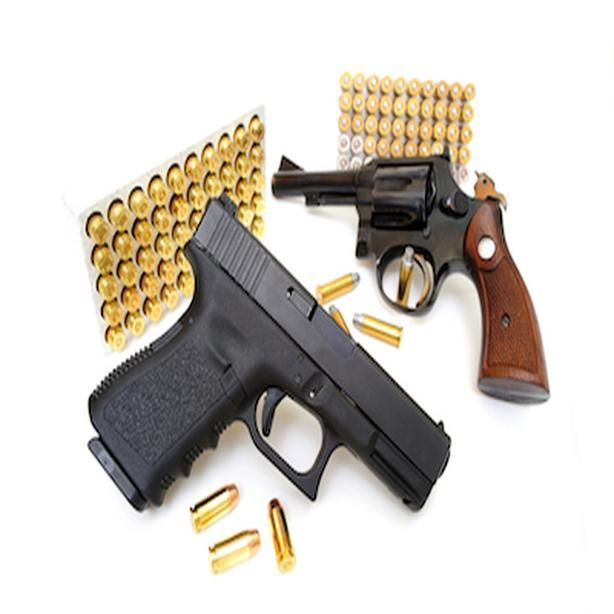Firearm: (42, 189, 461, 557), (252, 136, 565, 424)
